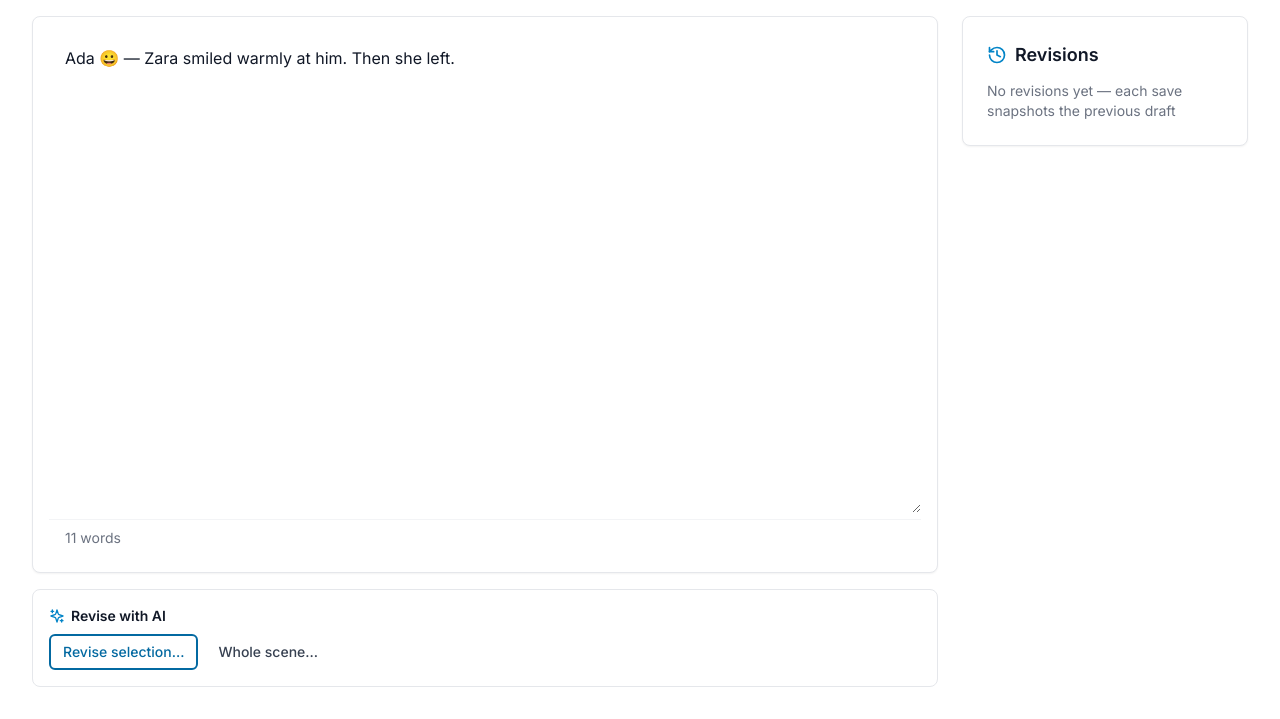
Test: Revise from the scene editor (SPEC-25, W2-3) › shows the proposal as a word diff once the job succeeds
(page scrolled)
Click the button "Revise selection…" at (124, 652), box [49, 634, 198, 670]
(page scrolled)
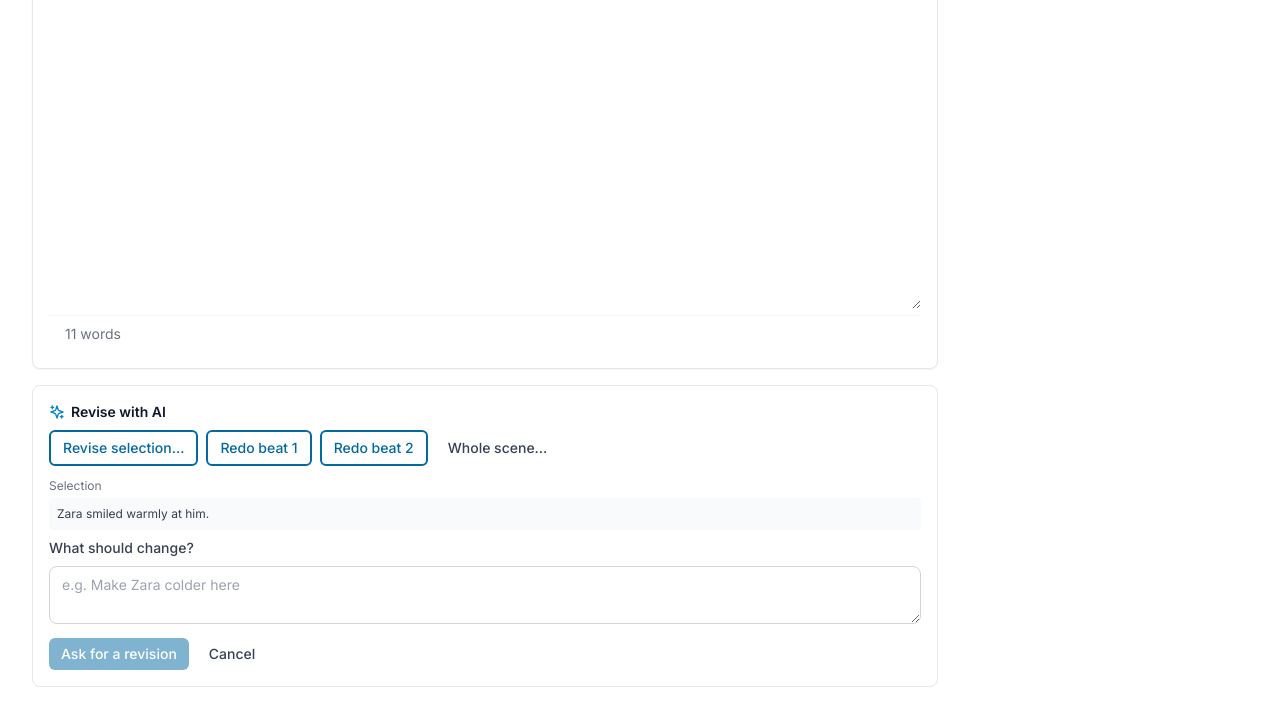
Type "Make Zara colder" into the text box labelled "What should change?" at (485, 595), box [49, 566, 921, 624]
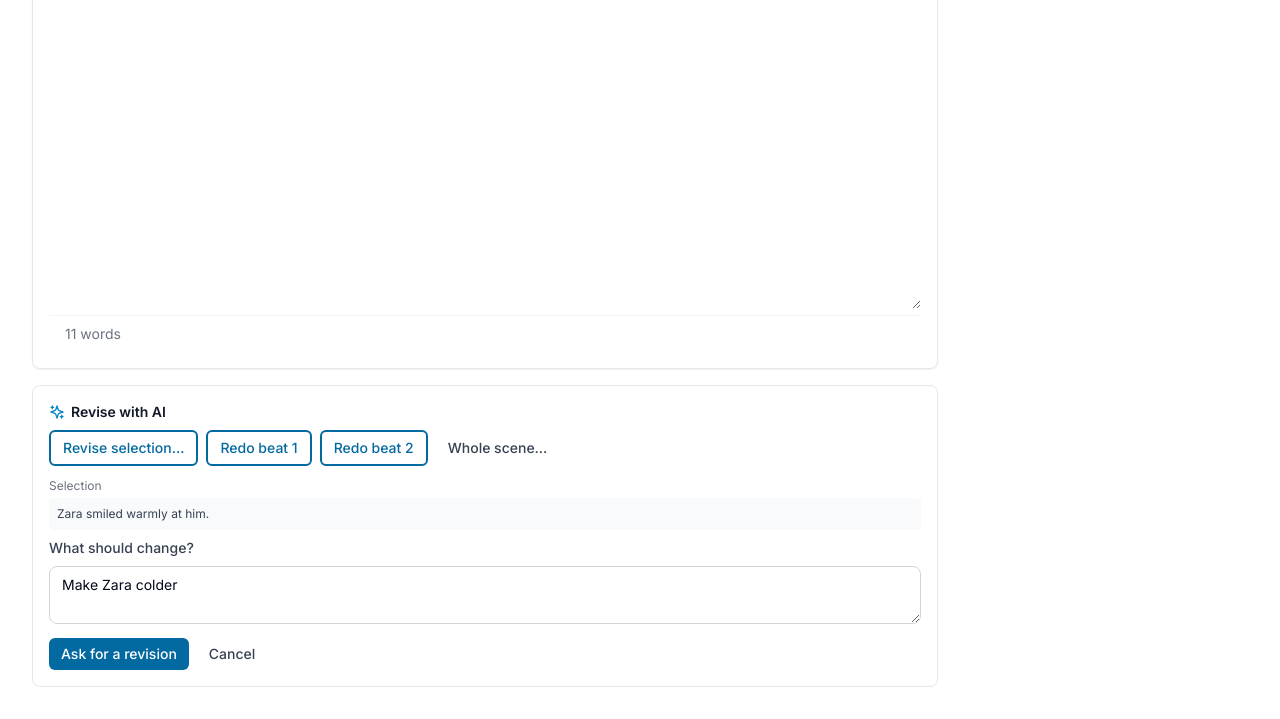
Click the button "Ask for a revision" at (119, 654), box [49, 638, 189, 670]
(page scrolled)
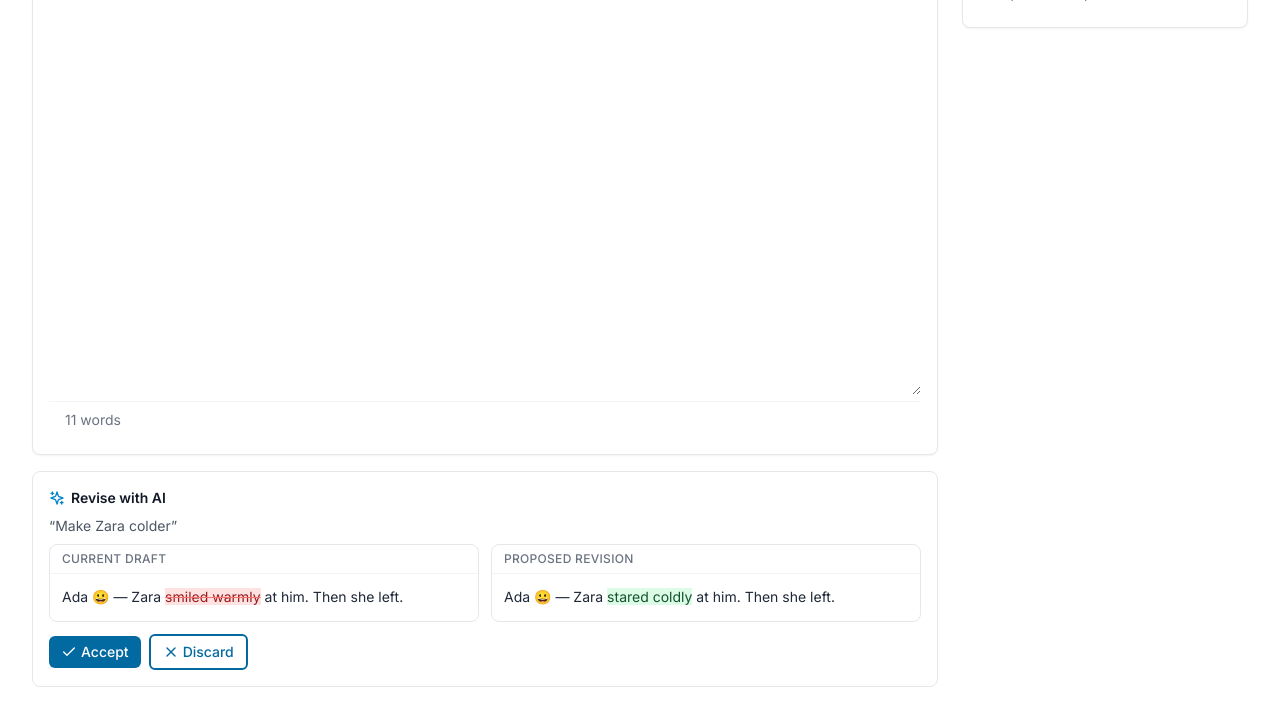
Check: the text with test id "diff-delete" reads "smiled warmly", box [165, 588, 261, 605]
Check: the text with test id "diff-insert" reads "stared coldly", box [607, 588, 692, 605]
